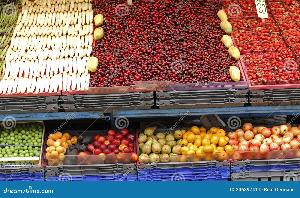apple: (230, 122, 300, 158)
avocado: (66, 134, 92, 164)
peach: (86, 126, 138, 165), (46, 130, 72, 170)
pear: (138, 130, 180, 166)
plum: (0, 120, 42, 146), (0, 144, 40, 164)
strawberry: (224, 0, 300, 88)
